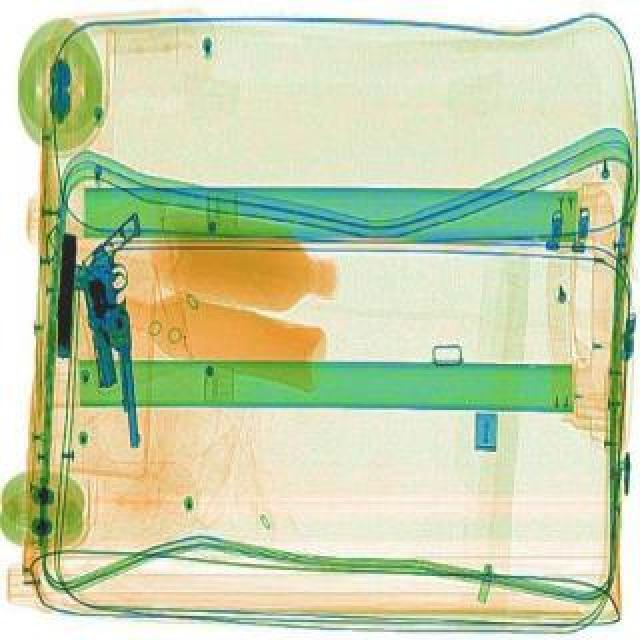gun: (66, 212, 154, 384), (86, 288, 160, 452), (46, 224, 90, 372)
